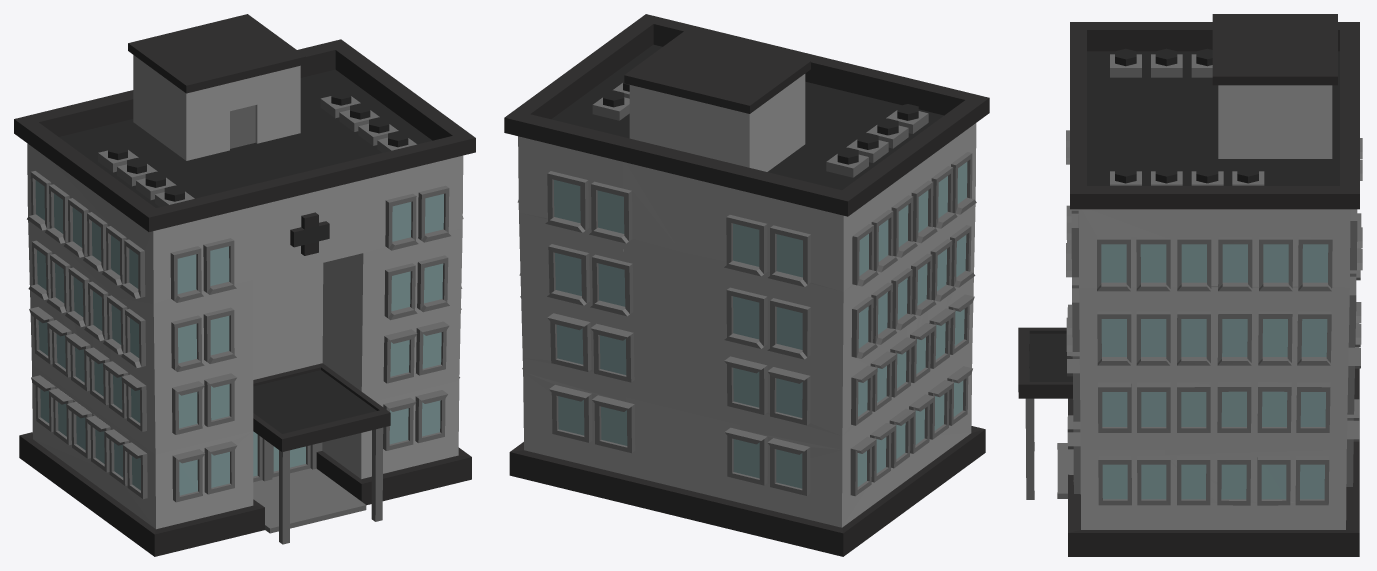
File: bati-Hospital.glb
3 renders of one model, left to right at view 1: azimuth 30°, elevation 25°; view 2: azimuth 150°, elevation 25°; view 3: azimuth 270°, elevation 25°, orthographic. The views are drawn at different scales.
Parts seen in each view (by area): view 1: Hospital_Cube.023; view 2: Hospital_Cube.023; view 3: Hospital_Cube.023.
Boxes of the visible parts, x1,y1,x2,y2 form: Hospital_Cube.023: (14,14,475,556); Hospital_Cube.023: (504,14,989,556); Hospital_Cube.023: (1018,14,1362,556).
Bounding box in the file's own units: 4.1 × 4.75 × 3.46.
1 material, 1 textured.
